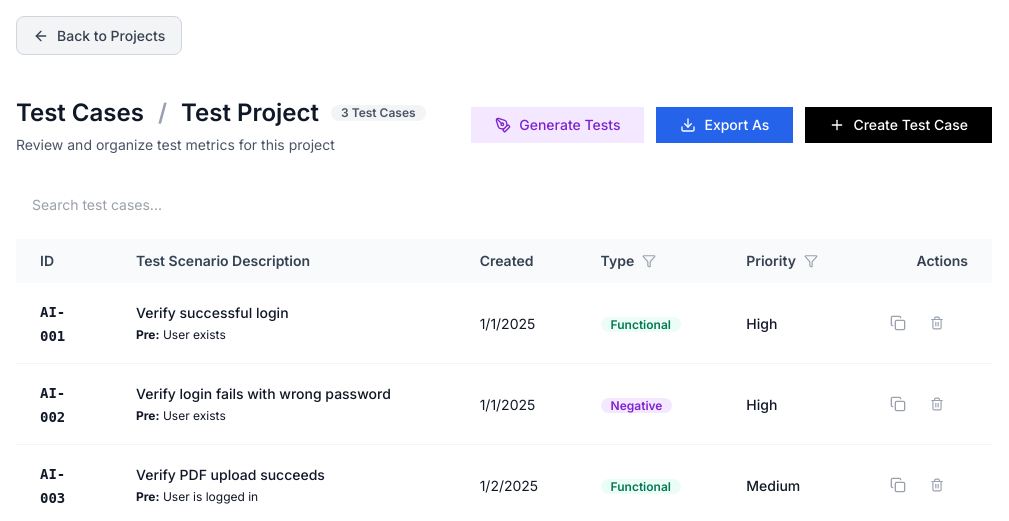
Test case: TestCasesView – type filter › clicking Type header cycles to Functional filter
Click the column heading "Type".
click(649, 261)  # box [576,239,722,283]
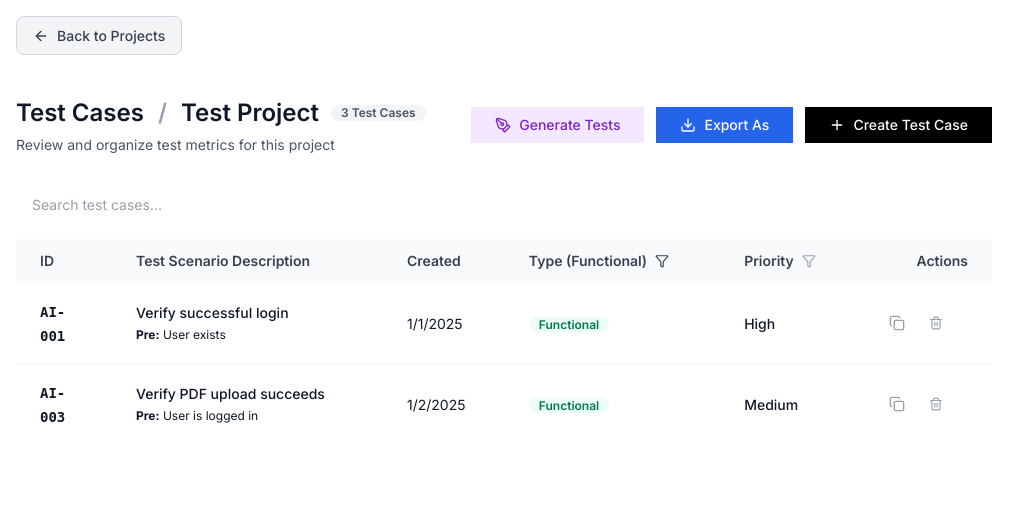
Expected: the text "Verify successful login" is shown, [136,304,289,321]
Result: the text "Verify login fails" is gone
